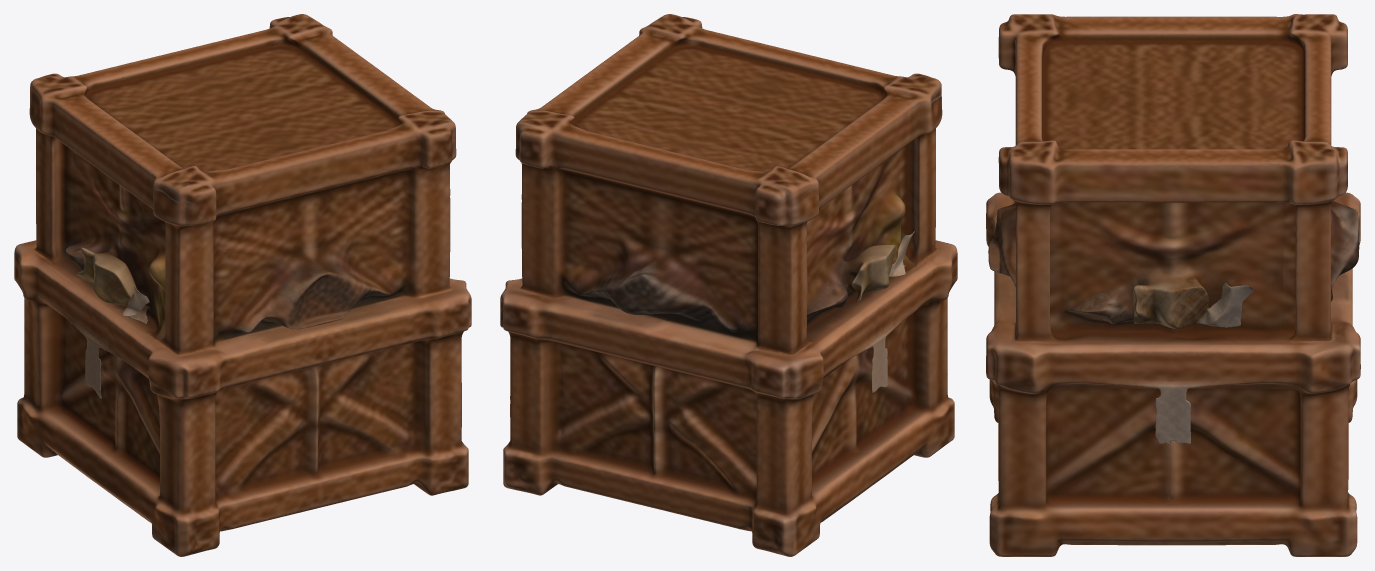
The model's file is item_ambiente_md_2.glb.
3 renders of one model, left to right at view 1: azimuth 30°, elevation 25°; view 2: azimuth 150°, elevation 25°; view 3: azimuth 270°, elevation 25°, orthographic. The views are drawn at different scales.
Size of the model in its own units: 1.73 by 1.9 by 1.63.
Materials: 1 (1 with a texture image).
